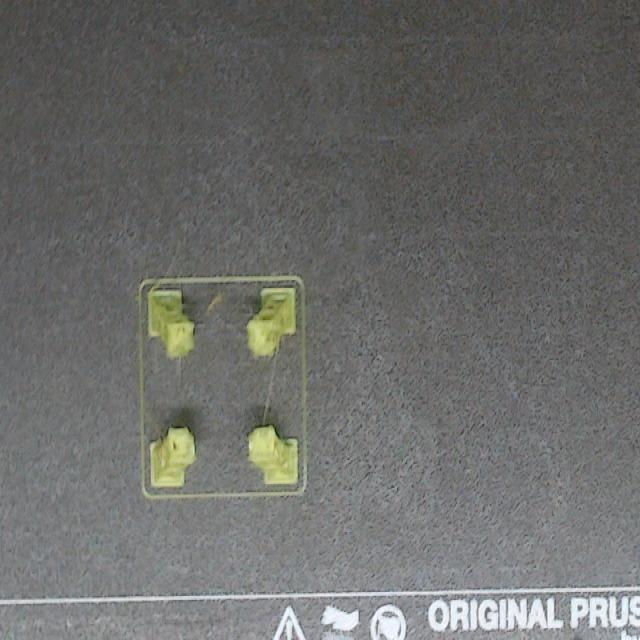mistake: (150, 427, 195, 487), (262, 351, 276, 424), (207, 295, 221, 315)
